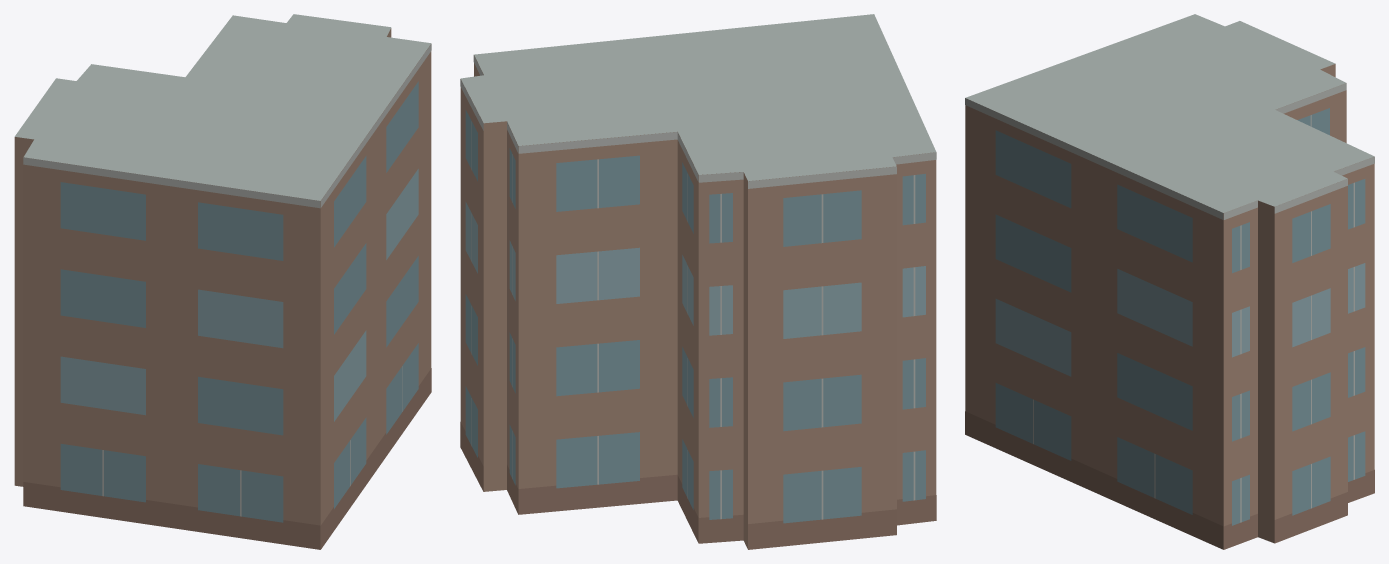
File: survey-upis-32856442.glb
3 renders of one model, left to right at view 1: azimuth 30°, elevation 25°; view 2: azimuth 150°, elevation 25°; view 3: azimuth 270°, elevation 25°, orthographic. The views are drawn at different scales.
Visible parts, largest first — view 1: survey-upis-32856442.tmp; view 2: survey-upis-32856442.tmp; view 3: survey-upis-32856442.tmp.
Boxes of the visible parts, bbox=[...] form: survey-upis-32856442.tmp: bbox=[14, 14, 431, 549]; survey-upis-32856442.tmp: bbox=[460, 14, 936, 549]; survey-upis-32856442.tmp: bbox=[965, 14, 1374, 549].
Size of the model in its own units: 14.72 by 11.6 by 12.8.
